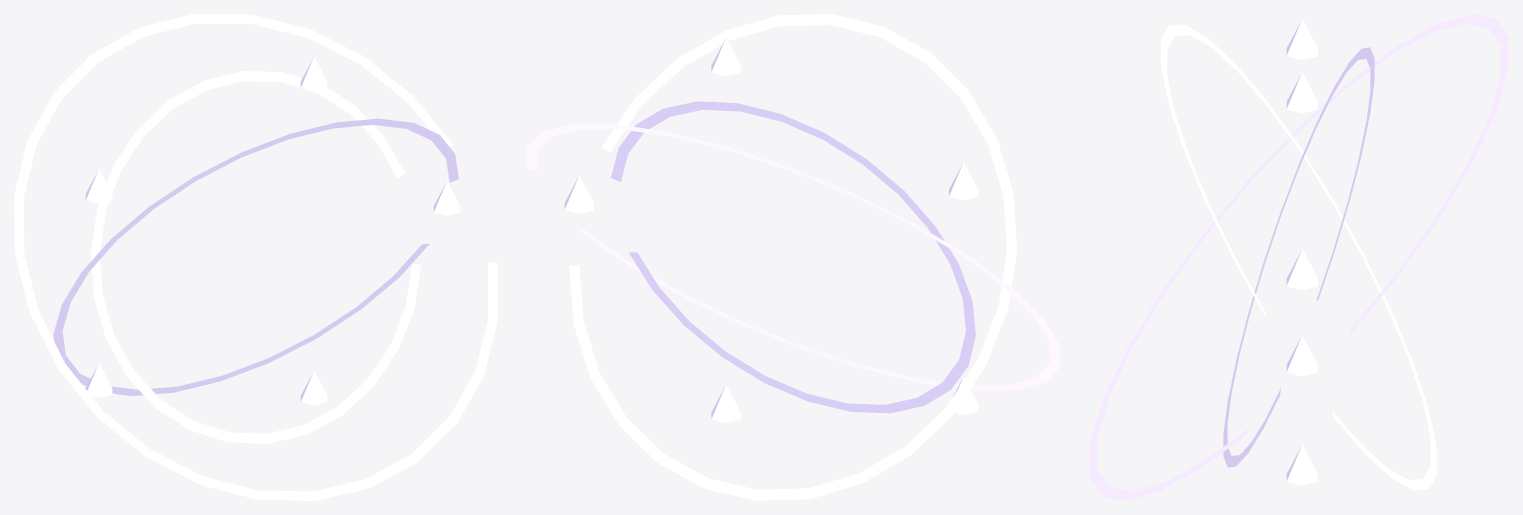
Rendered from ORION_ASCENDED.glb.
3 renders of one model, left to right at view 1: azimuth 30°, elevation 25°; view 2: azimuth 150°, elevation 25°; view 3: azimuth 270°, elevation 25°, orthographic. The views are drawn at different scales.
Parts seen in each view (by area): view 1: ANI08C_orion-vell_2_orbit2, ANI08C_orion-vell_2_orbit0, ANI08C_orion-vell_2_orbit1, ANI08C_orion-vell_2_orbital_node0, ANI08C_orion-vell_2_orbital_node1, ANI08C_orion-vell_2_orbital_node4, ANI08C_orion-vell_2_orbital_node2, ANI08C_orion-vell_2_orbital_node3; view 2: ANI08C_orion-vell_2_orbit1, ANI08C_orion-vell_2_orbit0, ANI08C_orion-vell_2_orbit2, ANI08C_orion-vell_2_orbital_node2, ANI08C_orion-vell_2_orbital_node0, ANI08C_orion-vell_2_orbital_node1, ANI08C_orion-vell_2_orbital_node4; view 3: ANI08C_orion-vell_2_orbit2, ANI08C_orion-vell_2_orbit1, ANI08C_orion-vell_2_orbit0, ANI08C_orion-vell_2_orbital_node0, ANI08C_orion-vell_2_orbital_node1, ANI08C_orion-vell_2_orbital_node3, ANI08C_orion-vell_2_orbital_node4, ANI08C_orion-vell_2_orbital_node2.
Boxes of the visible parts, x1,y1,x2,y2 form: ANI08C_orion-vell_2_orbit2: [14, 14, 497, 500]; ANI08C_orion-vell_2_orbit0: [91, 71, 421, 443]; ANI08C_orion-vell_2_orbit1: [53, 118, 458, 395]; ANI08C_orion-vell_2_orbital_node0: [433, 181, 460, 215]; ANI08C_orion-vell_2_orbital_node1: [300, 56, 327, 90]; ANI08C_orion-vell_2_orbital_node4: [300, 371, 327, 405]; ANI08C_orion-vell_2_orbital_node2: [85, 169, 112, 203]; ANI08C_orion-vell_2_orbital_node3: [85, 363, 112, 397]; ANI08C_orion-vell_2_orbit1: [569, 14, 1017, 500]; ANI08C_orion-vell_2_orbit0: [611, 101, 975, 413]; ANI08C_orion-vell_2_orbit2: [526, 124, 1060, 390]; ANI08C_orion-vell_2_orbital_node2: [949, 162, 978, 200]; ANI08C_orion-vell_2_orbital_node0: [564, 175, 593, 213]; ANI08C_orion-vell_2_orbital_node1: [711, 38, 740, 75]; ANI08C_orion-vell_2_orbital_node4: [711, 385, 740, 422]; ANI08C_orion-vell_2_orbit2: [1089, 14, 1508, 500]; ANI08C_orion-vell_2_orbit1: [1161, 24, 1436, 490]; ANI08C_orion-vell_2_orbit0: [1223, 47, 1374, 467]; ANI08C_orion-vell_2_orbital_node0: [1286, 335, 1317, 376]; ANI08C_orion-vell_2_orbital_node1: [1286, 72, 1317, 113]; ANI08C_orion-vell_2_orbital_node3: [1286, 249, 1317, 290]; ANI08C_orion-vell_2_orbital_node4: [1286, 444, 1317, 485]; ANI08C_orion-vell_2_orbital_node2: [1286, 19, 1317, 59].
Bounding box in the file's own units: 0.9037 × 0.693 × 0.6215.
